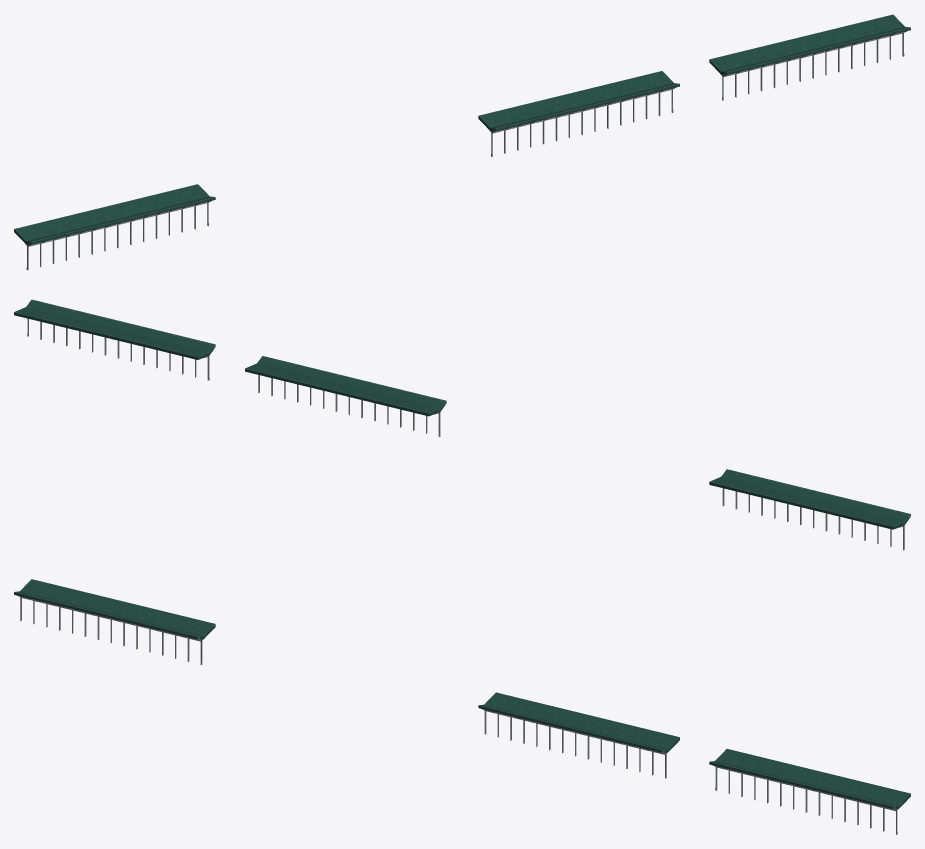
The model's file is Carport_01.fbx.
3 renders of one model, top to bottom at view 1: azimuth 30°, elevation 25°; view 2: azimuth 150°, elevation 25°; view 3: azimuth 330°, elevation 25°, orthographic.
Parts seen in each view (by area): view 1: mai1, mai3, mai4; view 2: mai4, mai3, mai1; view 3: mai4, mai3, mai1.
Boxes of the visible parts, <box> form: mai1: <box>478,71,679,156</box>; mai3: <box>709,14,910,100</box>; mai4: <box>14,184,215,270</box>; mai4: <box>709,469,910,550</box>; mai3: <box>14,299,215,380</box>; mai1: <box>245,356,446,436</box>; mai4: <box>14,579,215,664</box>; mai3: <box>709,749,910,834</box>; mai1: <box>478,692,679,778</box>.
Bounding box in the file's own units: 15305 × 543 × 534.
